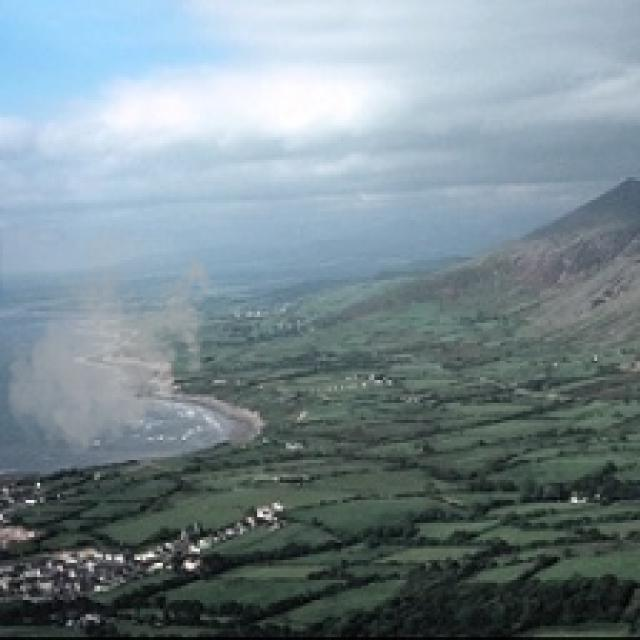Smoke: (0, 228, 217, 463)
